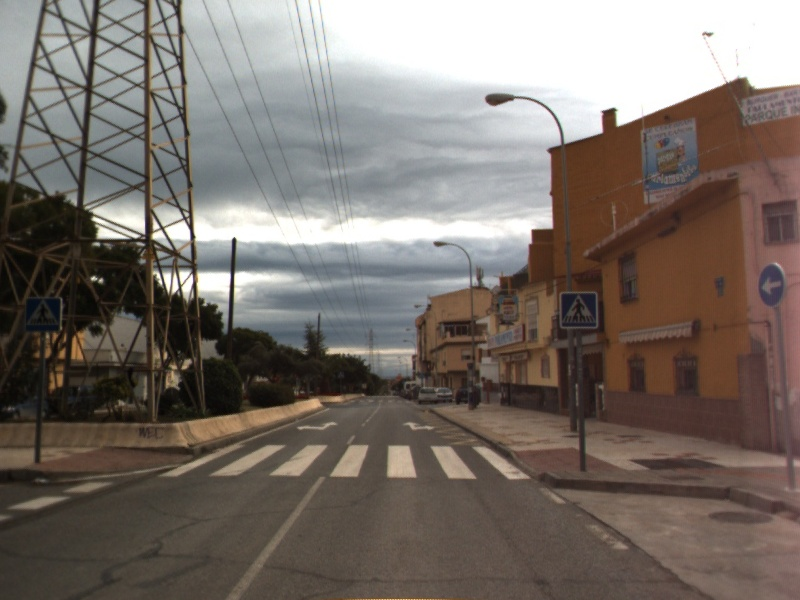STRAIGHT_LEFT: (295, 419, 341, 432)
STRAIGHT_RIGHT: (401, 419, 437, 433)
